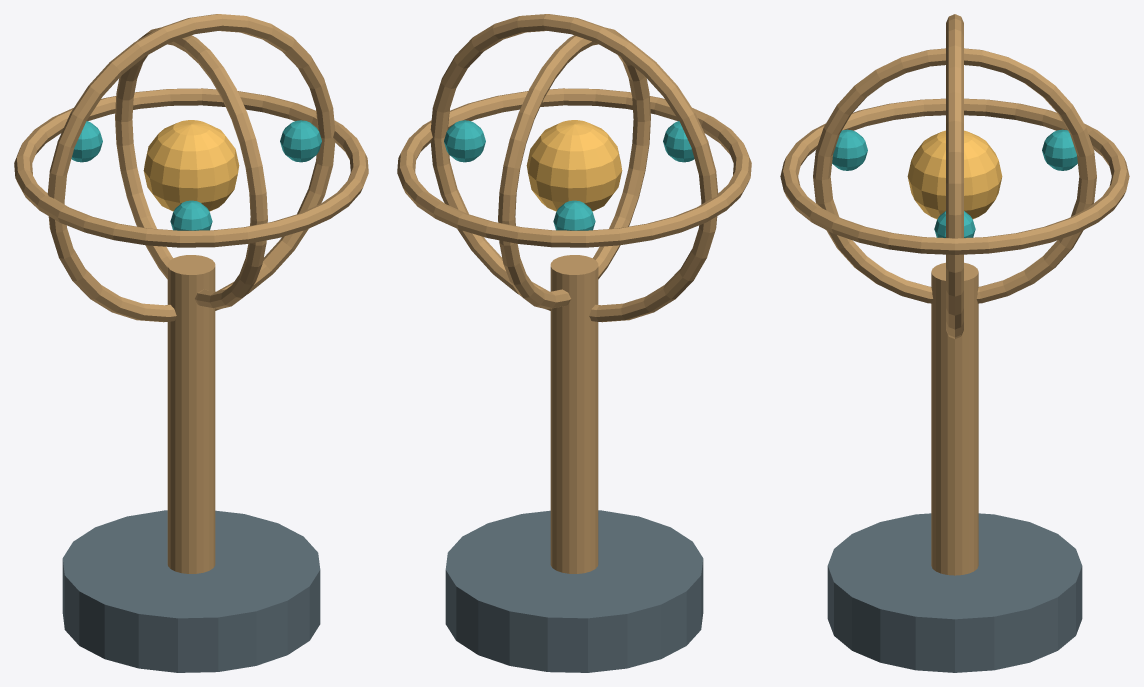
Rendered from BridgeOrrery.glb.
3 renders of one model, left to right at view 1: azimuth 30°, elevation 25°; view 2: azimuth 150°, elevation 25°; view 3: azimuth 270°, elevation 25°, orthographic.
Visible parts, largest first — view 1: BridgeOrrery; view 2: BridgeOrrery; view 3: BridgeOrrery.
Part boxes in pixels (x1=…): BridgeOrrery: x1=14, y1=14, x2=368, y2=672; BridgeOrrery: x1=397, y1=14, x2=751, y2=672; BridgeOrrery: x1=780, y1=14, x2=1129, y2=672.
Bounding box in the file's own units: 1.18 × 2.2 × 1.18.
